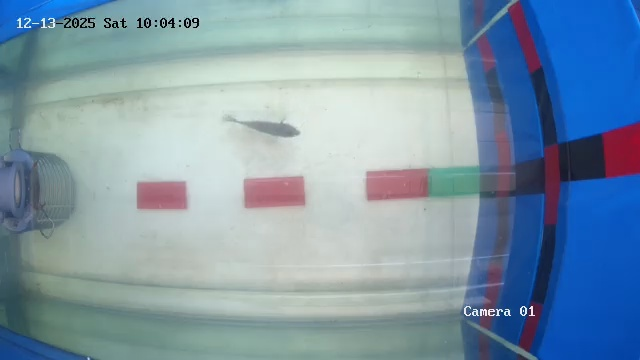fish: (235, 112, 305, 141)
